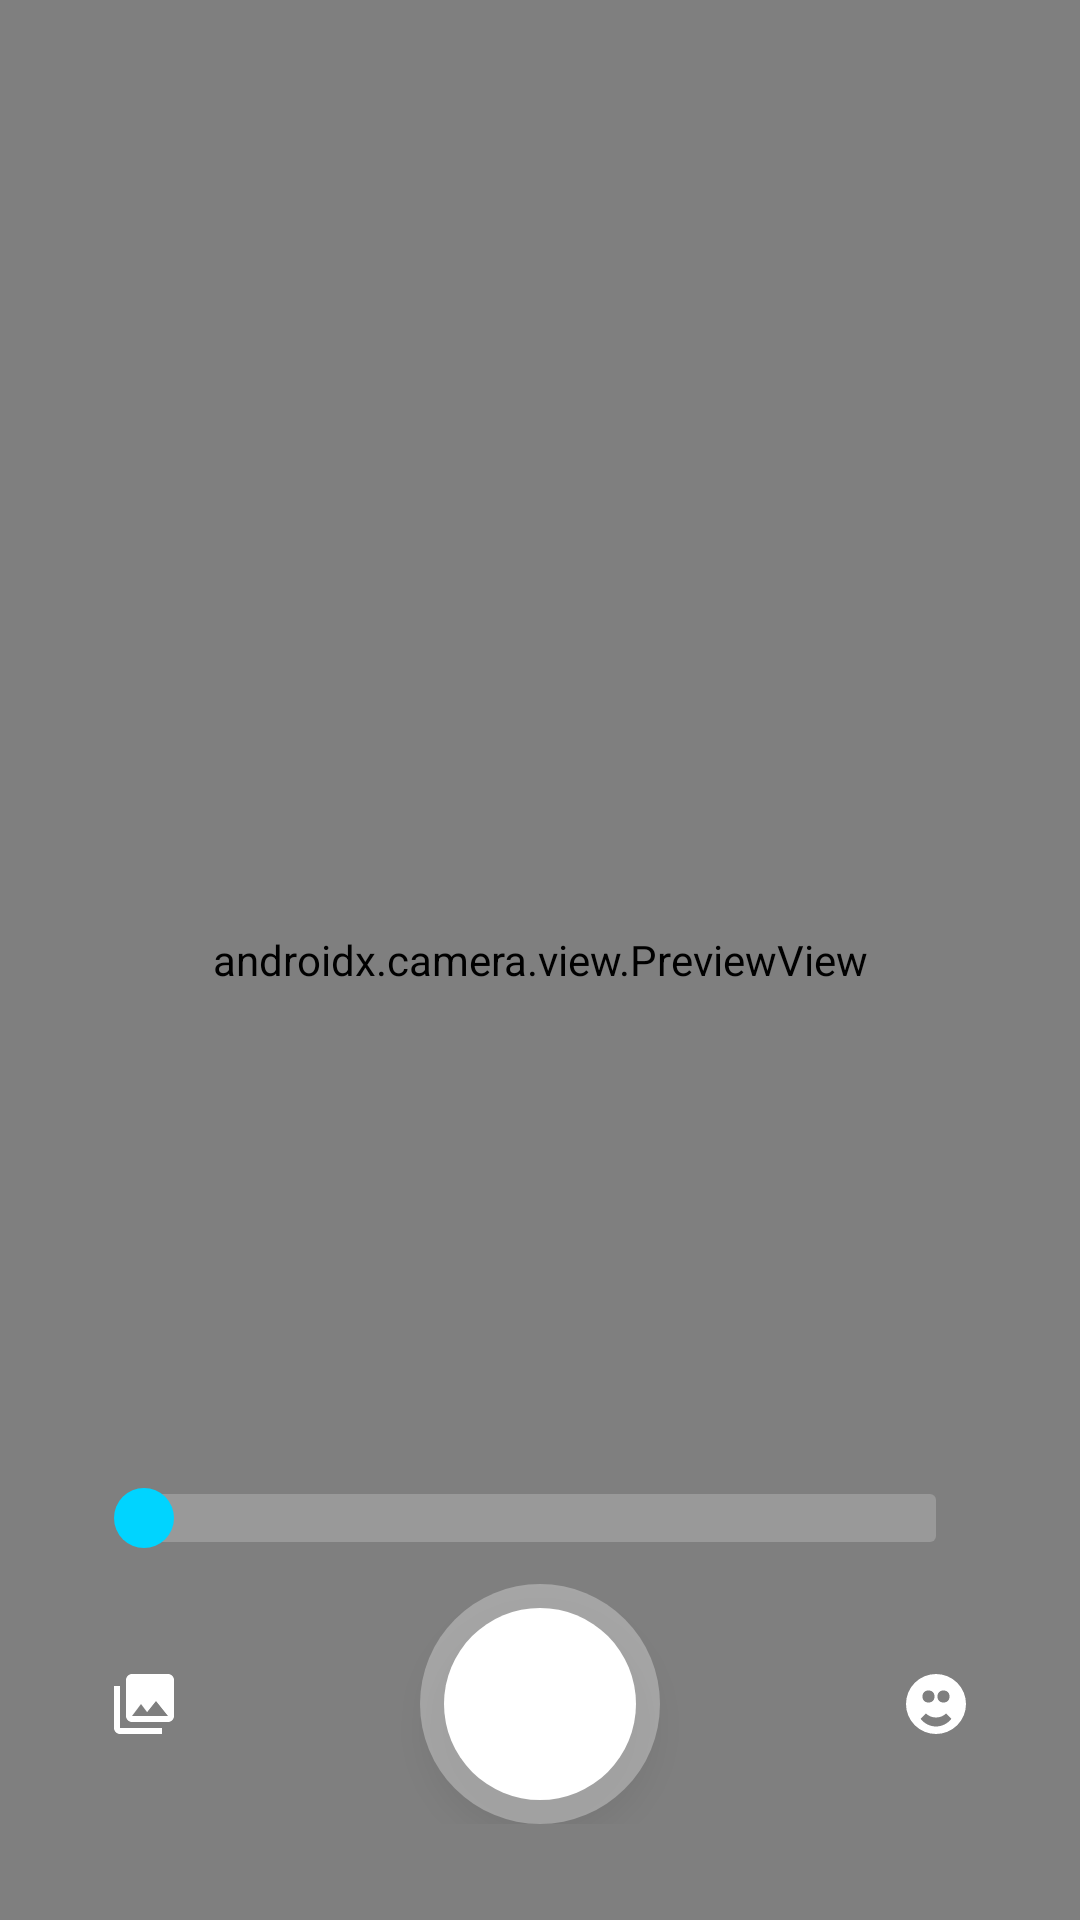

Screen size 1080x1920. Icon name, then its center in pixels as point (x, y):
Gallery: point (144, 1704)
